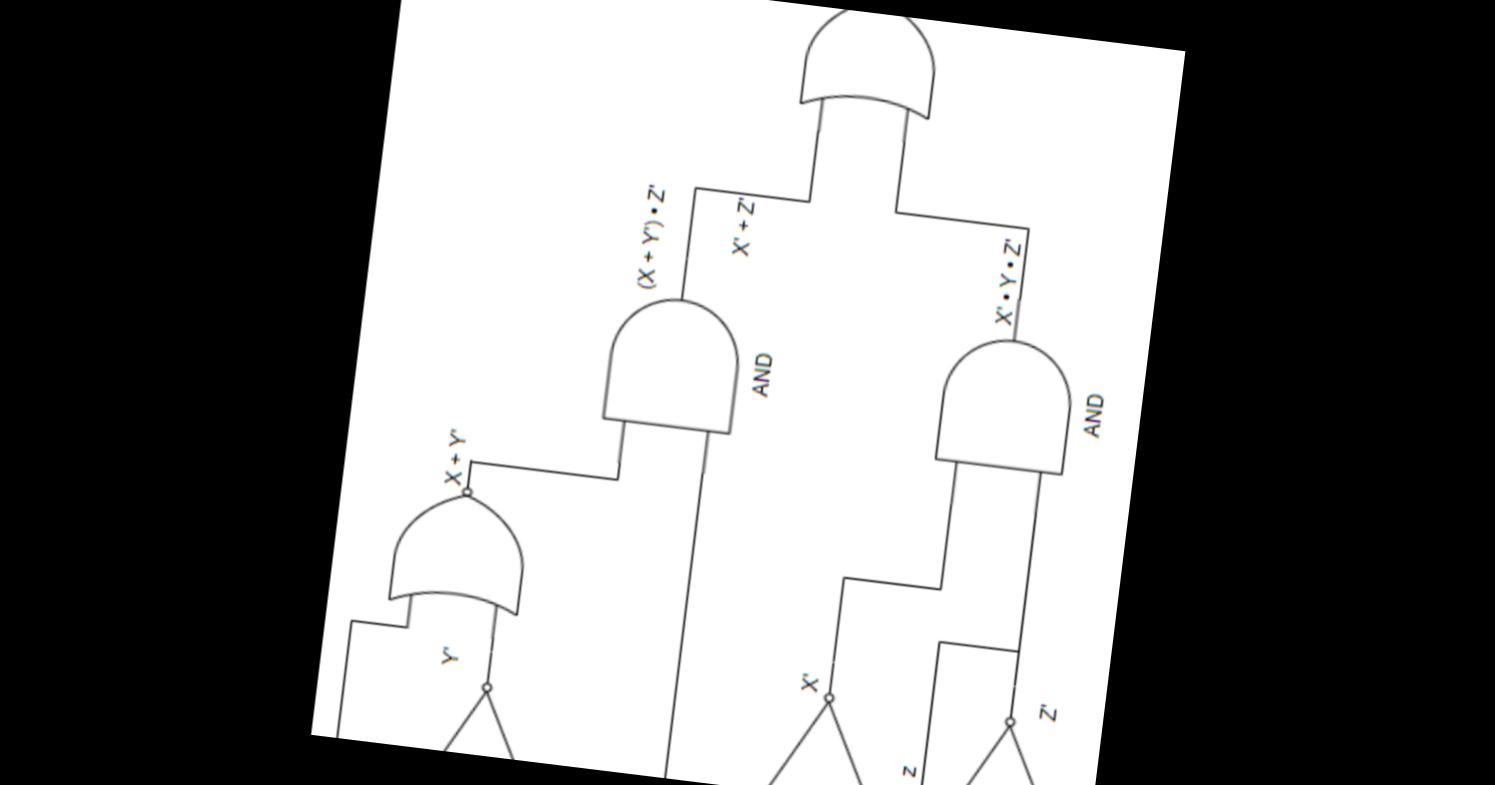and: (588, 278, 763, 450), (920, 320, 1088, 494)
nor: (378, 478, 542, 626), (783, 3, 950, 127)
not: (734, 676, 897, 785), (404, 665, 562, 764), (922, 701, 1086, 785)
